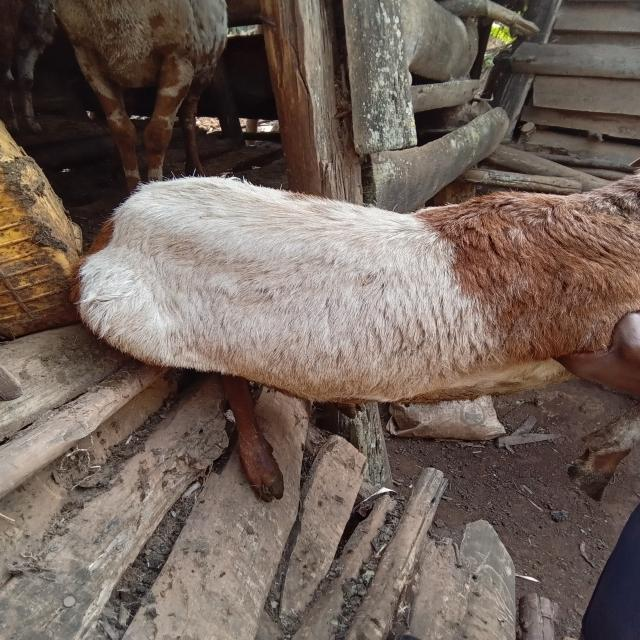sheep: (29, 42, 640, 597)
